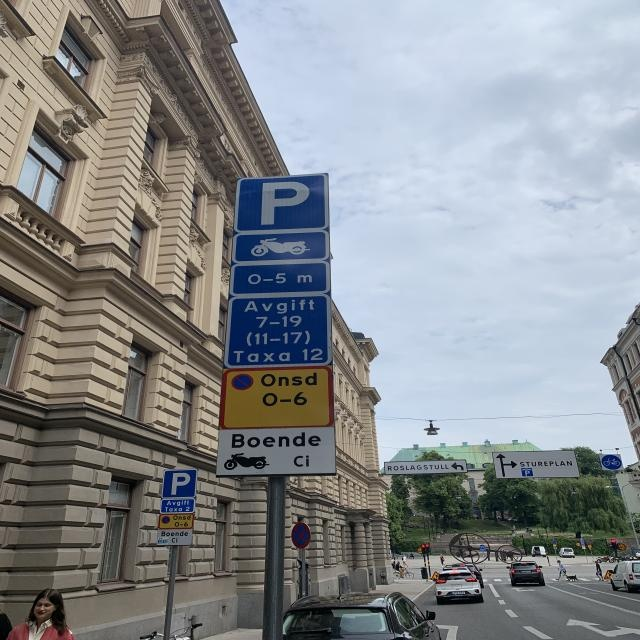P-skylt: (232, 172, 331, 235)
